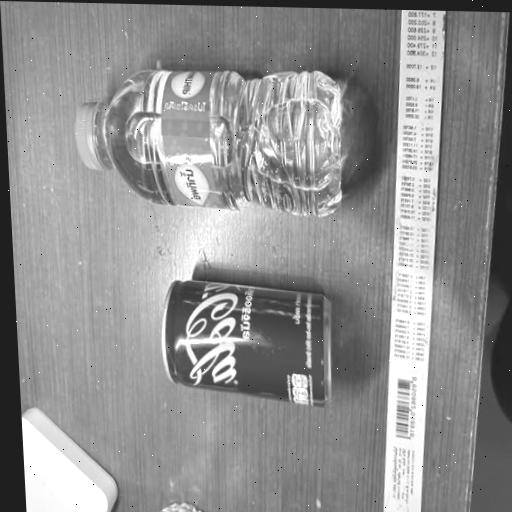ba: (49, 24, 382, 235)
bottle: (125, 242, 373, 431)
